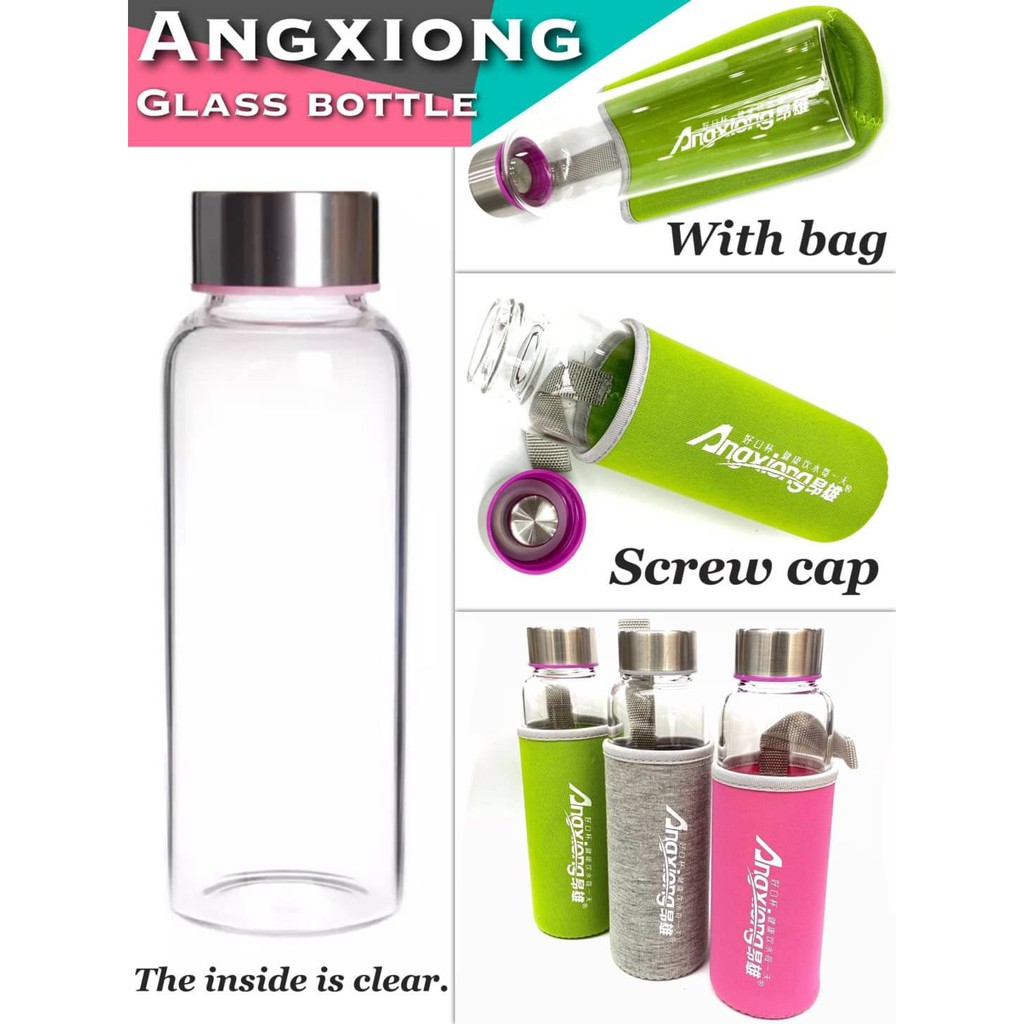glass_bottle: (153, 179, 420, 948), (463, 285, 918, 593), (462, 6, 913, 272), (699, 613, 863, 1021), (597, 618, 721, 985), (511, 610, 628, 944)
